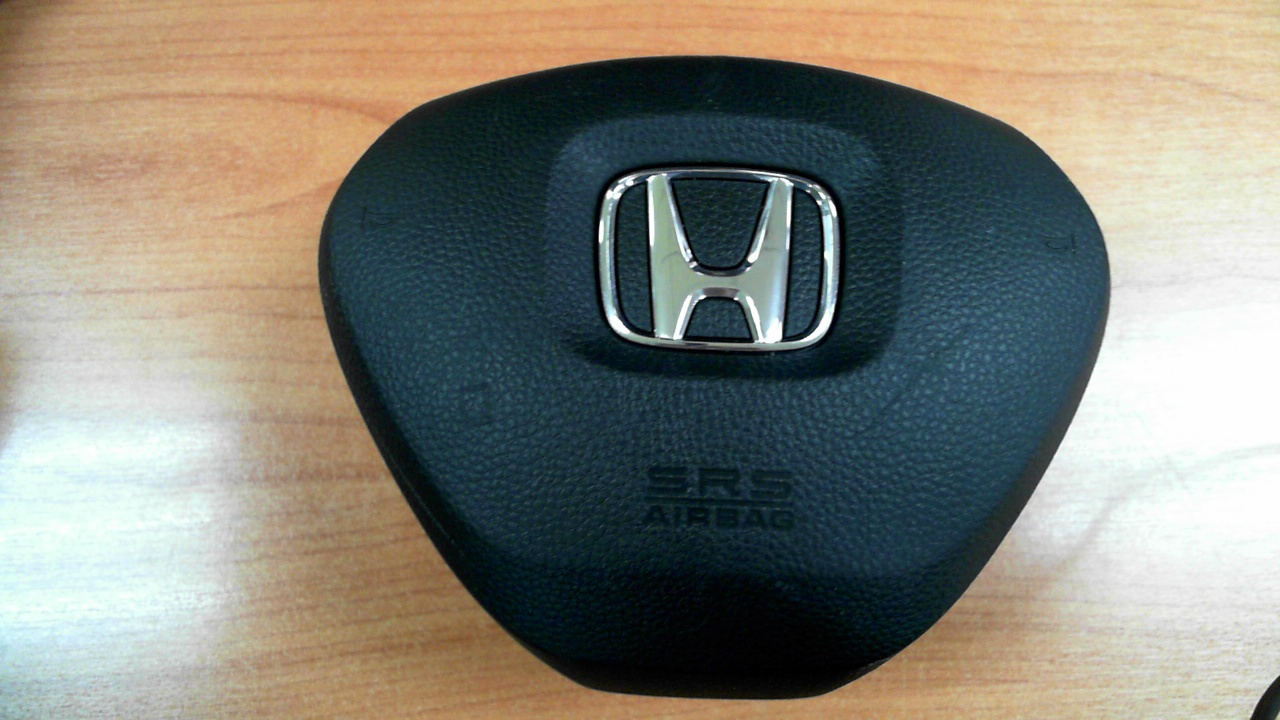Airbag: (318, 55, 1113, 704)
Honda: (598, 168, 841, 352)
